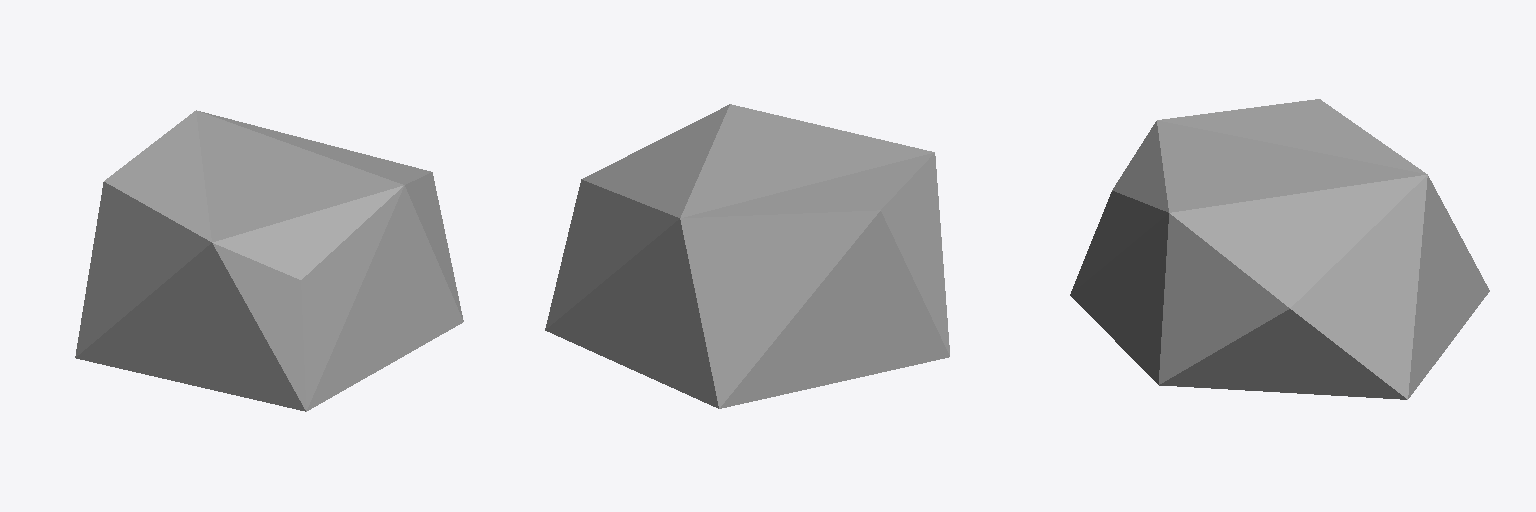
3 renders of one model, left to right at view 1: azimuth 30°, elevation 25°; view 2: azimuth 150°, elevation 25°; view 3: azimuth 270°, elevation 25°, orthographic.
Parts seen in each view (by area): view 1: NaturePack_Rock3; view 2: NaturePack_Rock3; view 3: NaturePack_Rock3.
Boxes of the visible parts, <box> form: NaturePack_Rock3: <box>75,110,463,411</box>; NaturePack_Rock3: <box>545,104,949,408</box>; NaturePack_Rock3: <box>1070,99,1489,399</box>.
Size of the model in its own units: 0.9899 by 0.4816 by 0.9914.
1 materials, 1 textured.